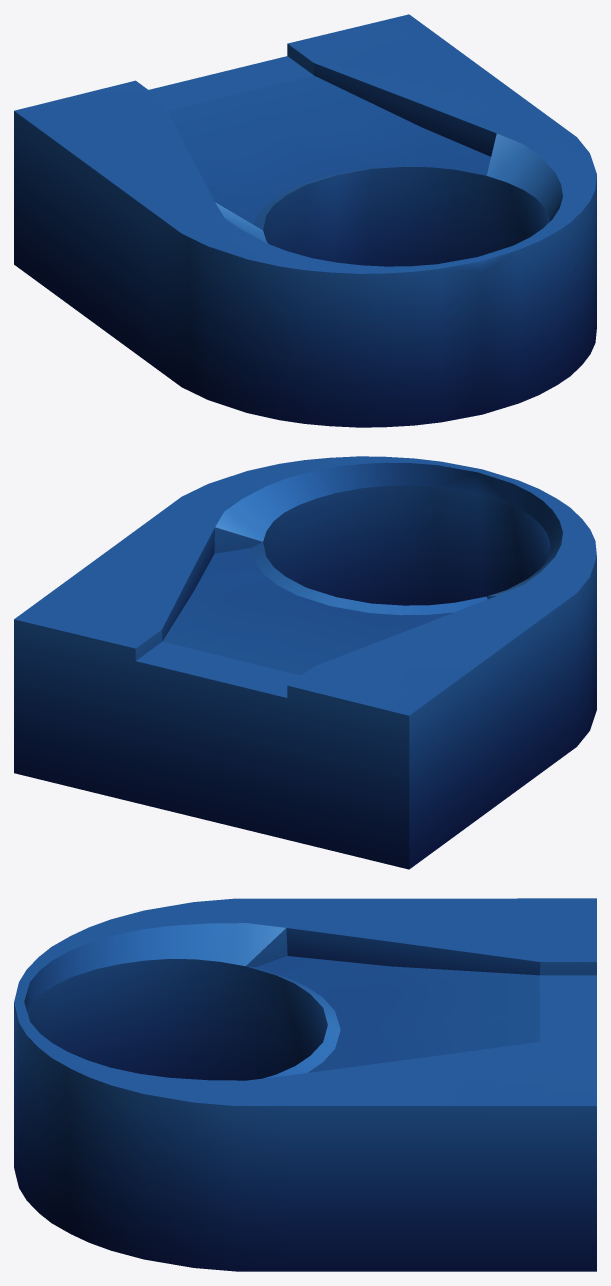
File: table.glb
3 renders of one model, top to bottom at view 1: azimuth 30°, elevation 25°; view 2: azimuth 150°, elevation 25°; view 3: azimuth 270°, elevation 25°, orthographic. The views are drawn at different scales.
Visible parts, largest first — view 1: Table_EDIT; view 2: Table_EDIT; view 3: Table_EDIT.
Part boxes in pixels (x1,y1,x2,y2): Table_EDIT: [14, 14, 596, 427]; Table_EDIT: [14, 456, 596, 869]; Table_EDIT: [14, 898, 596, 1271].
Size of the model in its own units: 9.58 by 3.58 by 11.37.
1 material, 1 textured.
